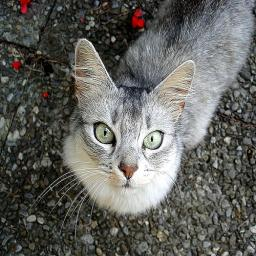catnose: (117, 161, 140, 183)
